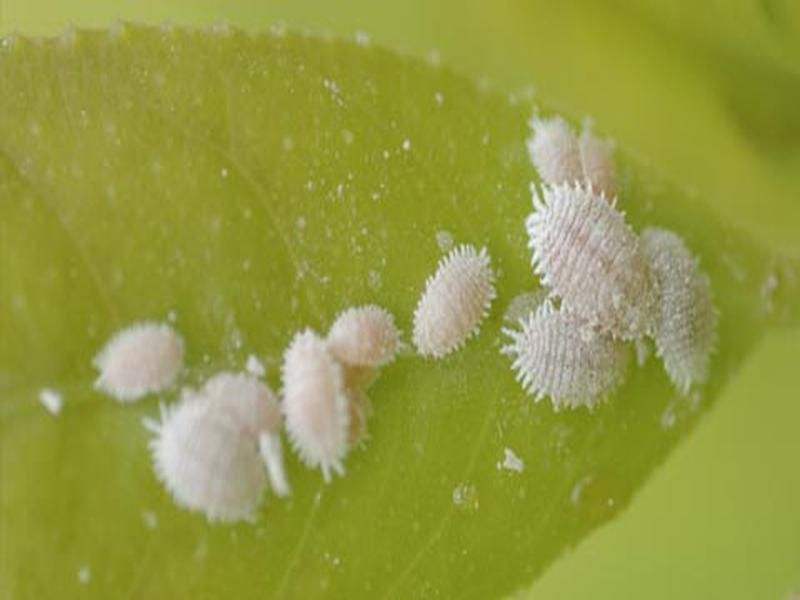Mealy_bug: (96, 244, 500, 506), (508, 106, 727, 424)
